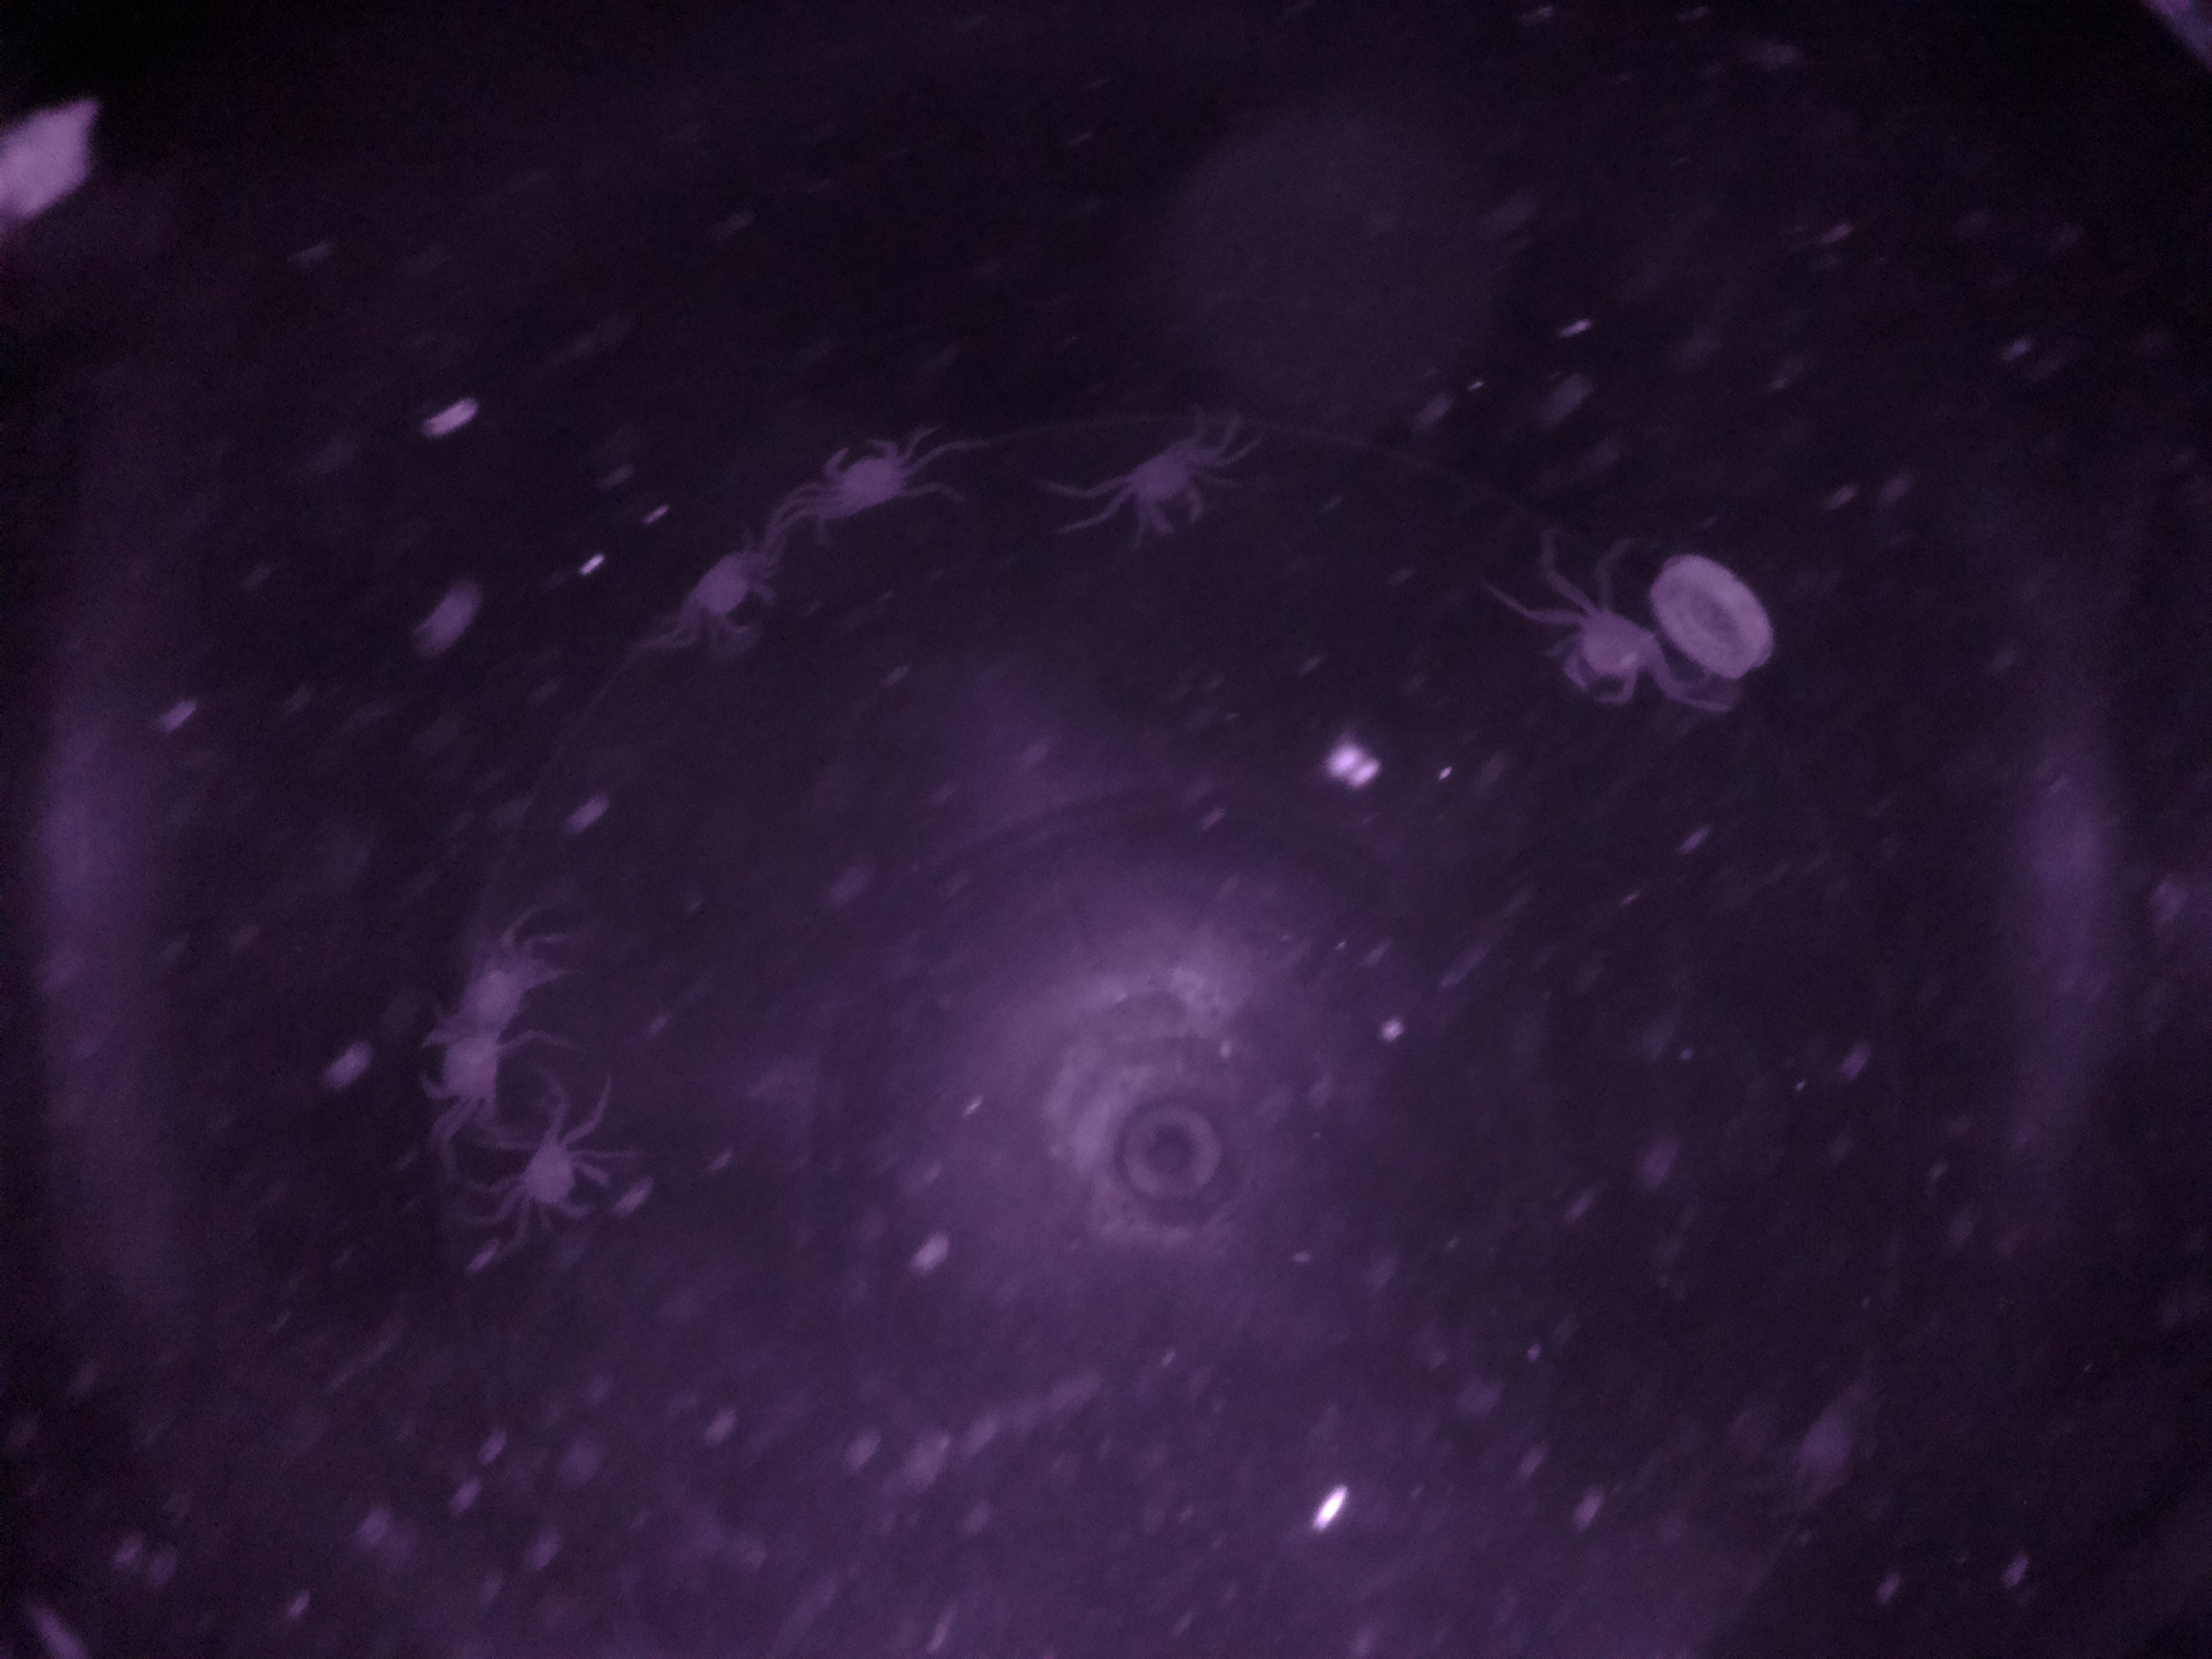Crab: (1540, 579, 1674, 725), (653, 523, 799, 653), (486, 1110, 632, 1234), (352, 993, 475, 1129), (1109, 427, 1224, 559), (813, 427, 934, 537)
